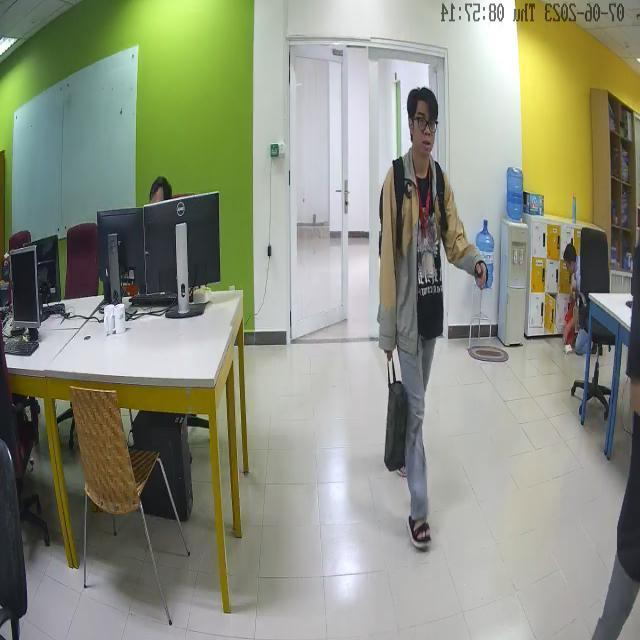person: (378, 85, 478, 542)
